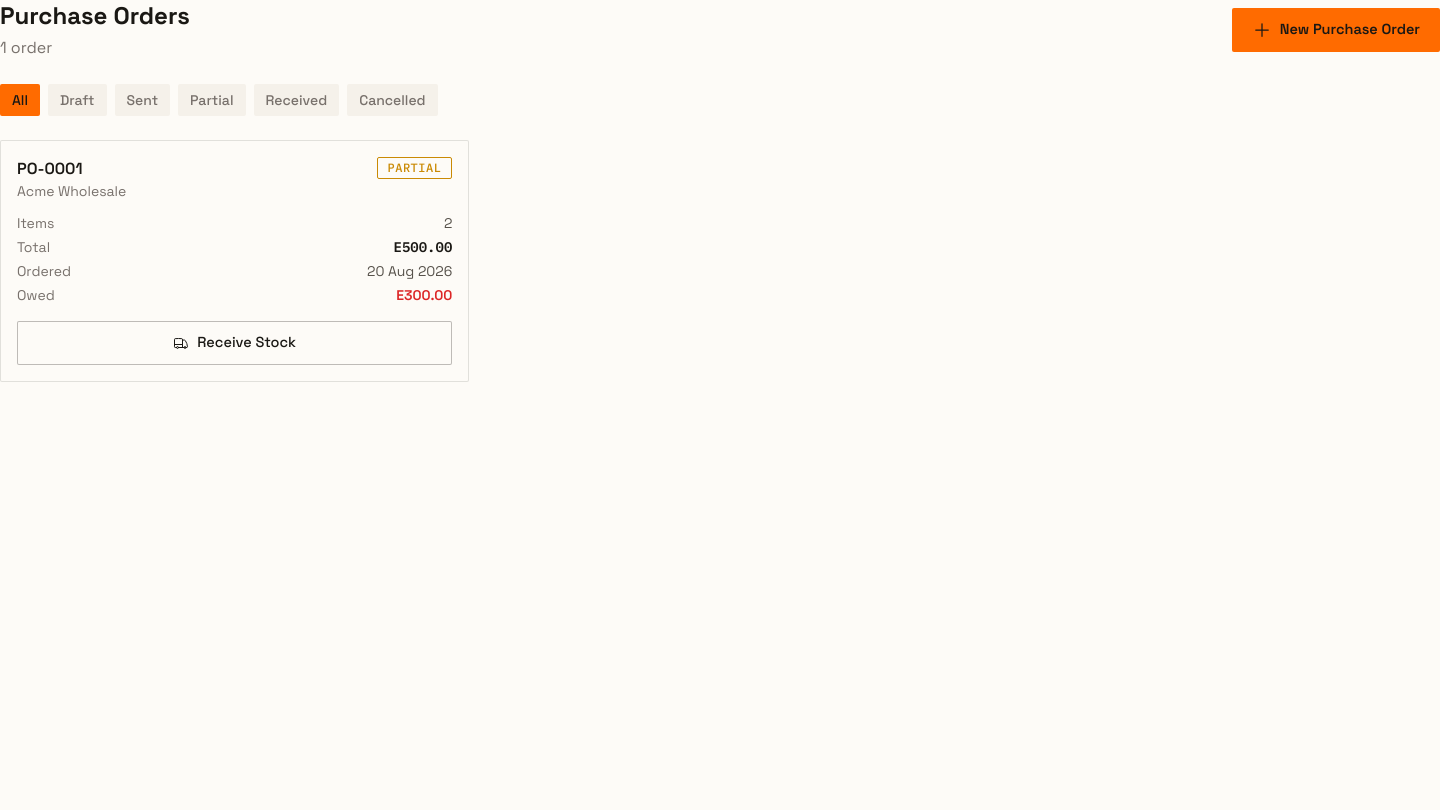
Test: PurchaseOrders — accounts payable › hides the Record Payment action from staff who cannot manage
Click the heading "PO-0001".
click(50, 168)  # box [17,158,83,179]
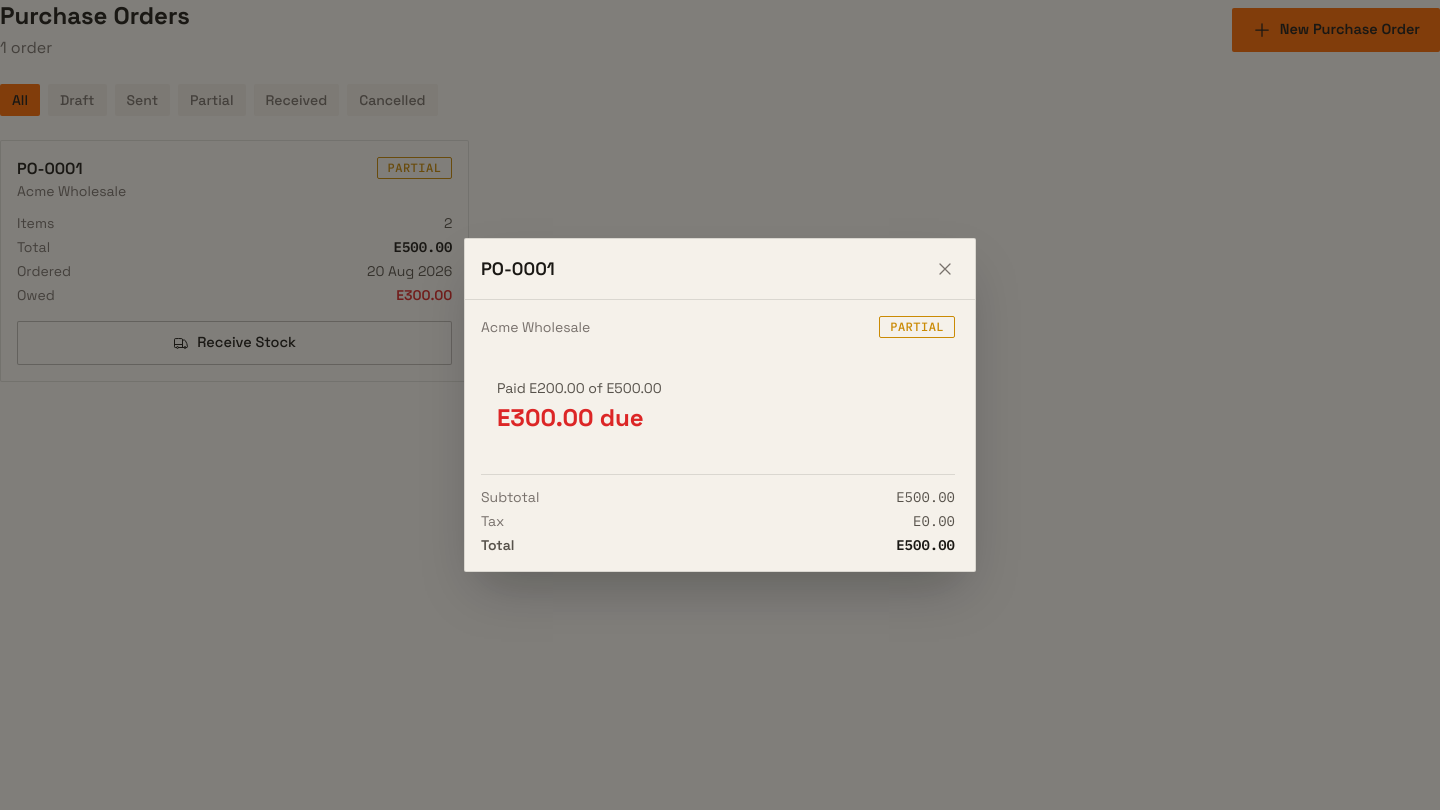
Expected: the text "Paid E200.00 of E500.00" is shown once, [497,379,662,397]
